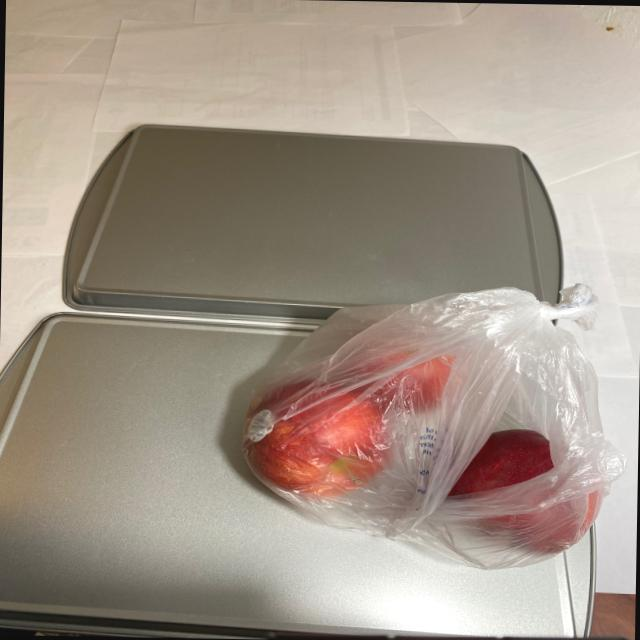apple: (242, 324, 606, 578)
